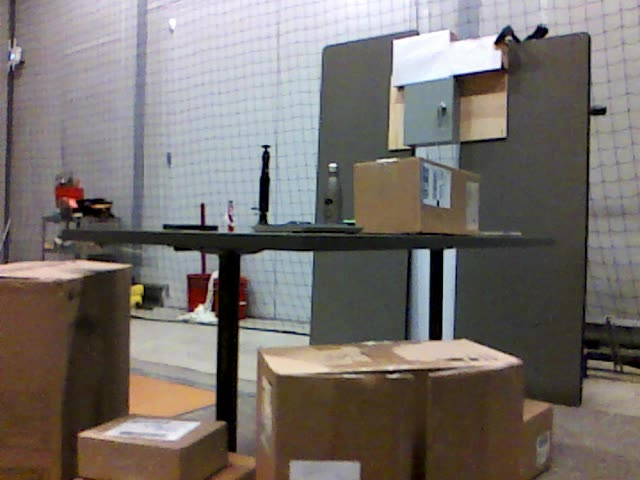box: (256, 339, 522, 480), (1, 262, 131, 478), (79, 415, 226, 480), (353, 158, 480, 232), (522, 397, 553, 480)
